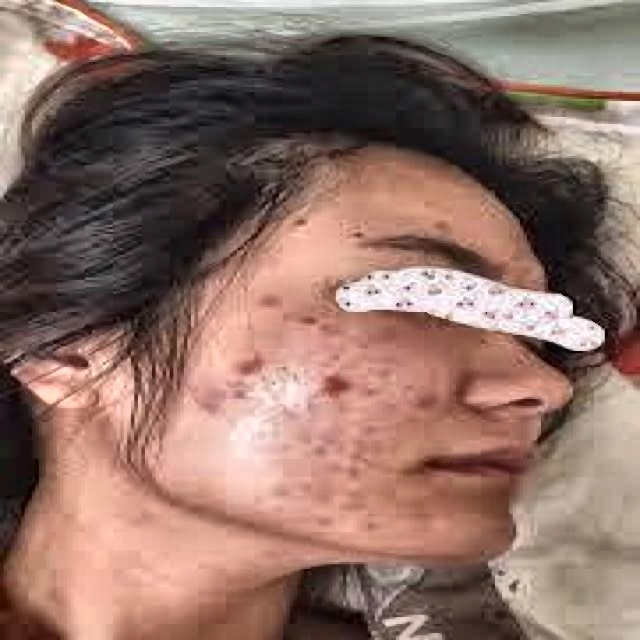pustule: (187, 388, 230, 422), (406, 383, 446, 413), (318, 372, 354, 402), (255, 289, 290, 319), (230, 353, 258, 374), (226, 386, 262, 400)
